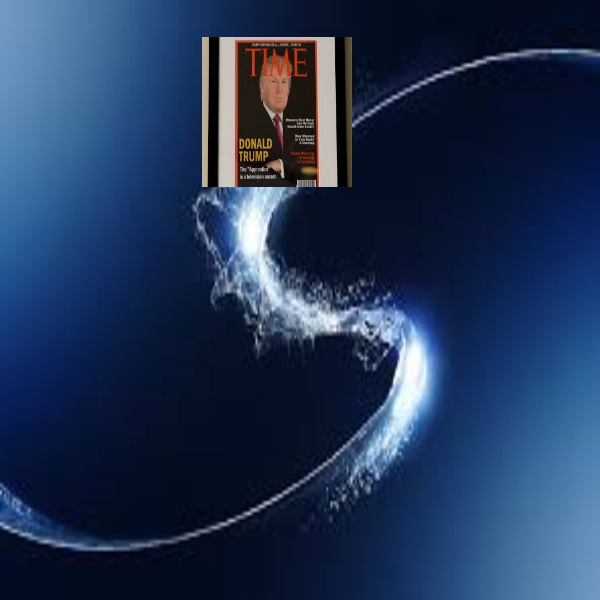time_cover: (226, 29, 335, 198)
